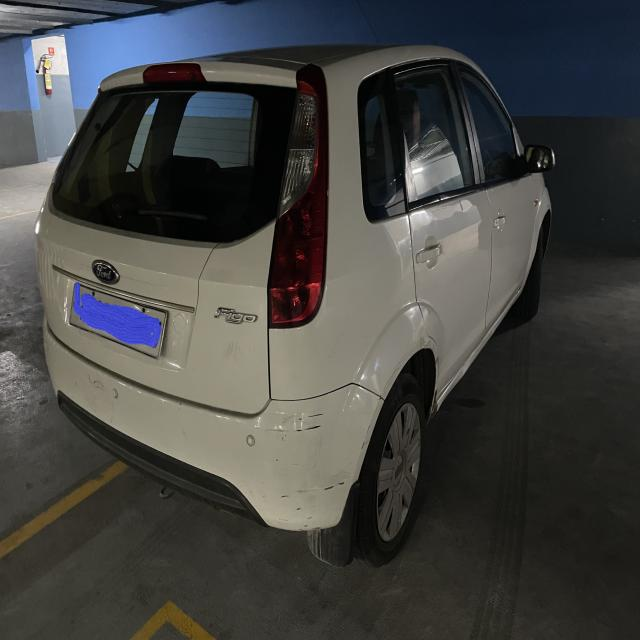scratch: (264, 405, 332, 475), (262, 484, 322, 534), (400, 329, 440, 369), (87, 374, 113, 423), (221, 338, 259, 366), (317, 332, 348, 366), (378, 361, 398, 403), (323, 481, 348, 494), (238, 481, 257, 498), (430, 388, 439, 423), (361, 420, 371, 450), (337, 460, 355, 474), (72, 378, 81, 391), (176, 402, 184, 413), (181, 431, 188, 437)
